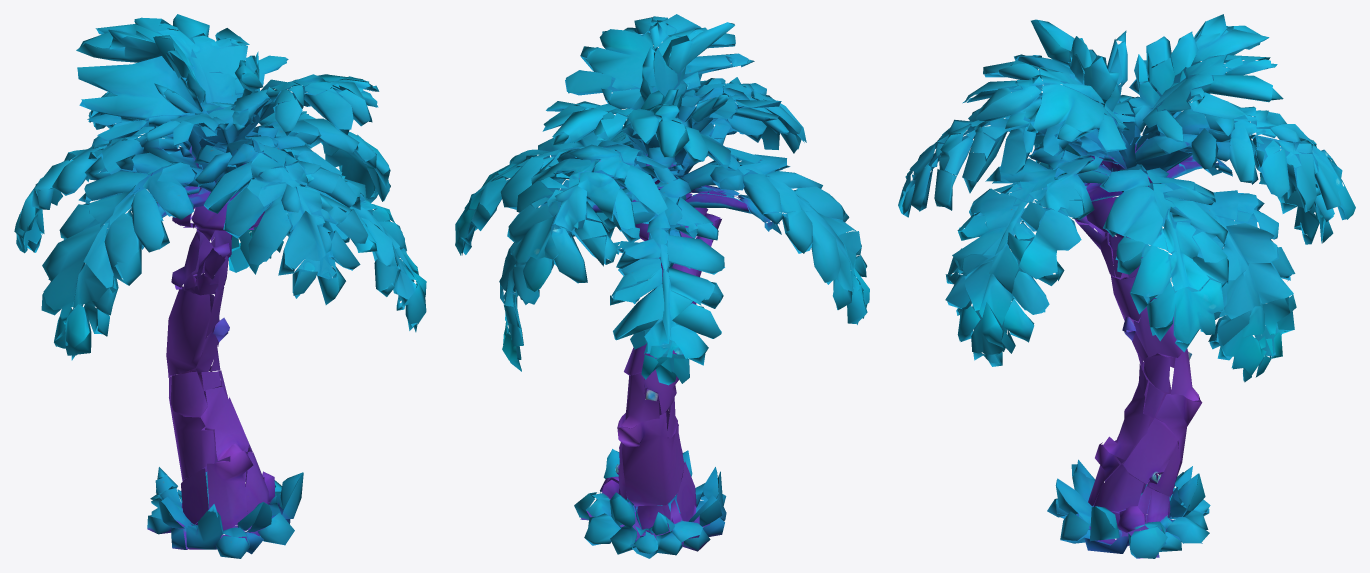
Rendered from TripoAlienPalmTree.fbx.
3 renders of one model, left to right at view 1: azimuth 30°, elevation 25°; view 2: azimuth 150°, elevation 25°; view 3: azimuth 270°, elevation 25°, orthographic. The views are drawn at different scales.
Parts seen in each view (by area): view 1: TripoAlienPalmTree; view 2: TripoAlienPalmTree; view 3: TripoAlienPalmTree.
Boxes of the visible parts, left/top/right/bottom form: TripoAlienPalmTree: left=14, top=14, right=426, bottom=558; TripoAlienPalmTree: left=455, top=14, right=869, bottom=558; TripoAlienPalmTree: left=898, top=14, right=1355, bottom=558.
Size of the model in its own units: 4.59 by 4.84 by 5.8.
Materials: 1 (1 with a texture image).
